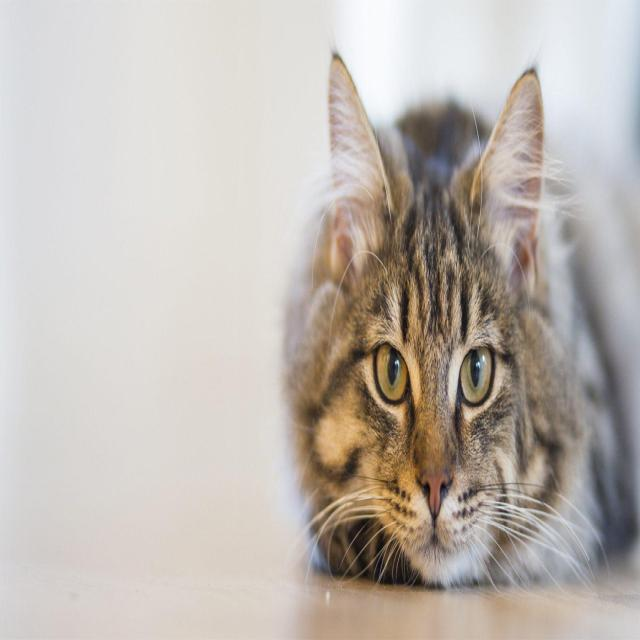Cat: (306, 36, 576, 596)
